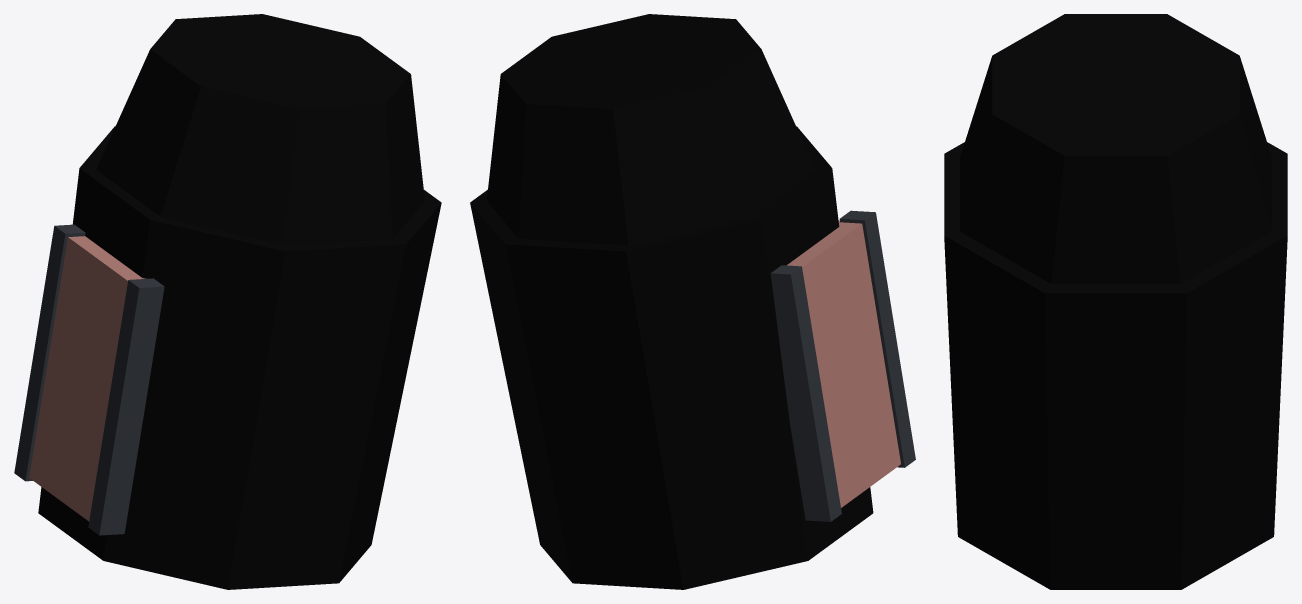
The model's file is inf_driver_upper_leg_l.fbx.
The picture shows the model from 3 angles, left to right: view 1: azimuth 30°, elevation 25°; view 2: azimuth 150°, elevation 25°; view 3: azimuth 270°, elevation 25°; orthographic projection.
Visible parts, largest first — view 1: inf_driver_upper_leg_l; view 2: inf_driver_upper_leg_l; view 3: inf_driver_upper_leg_l.
Boxes of the visible parts, x1,y1,x2,y2 form: inf_driver_upper_leg_l: (14, 14, 441, 589); inf_driver_upper_leg_l: (470, 14, 915, 589); inf_driver_upper_leg_l: (944, 14, 1287, 589).
Size of the model in its own units: 112 by 147 by 92.39.
